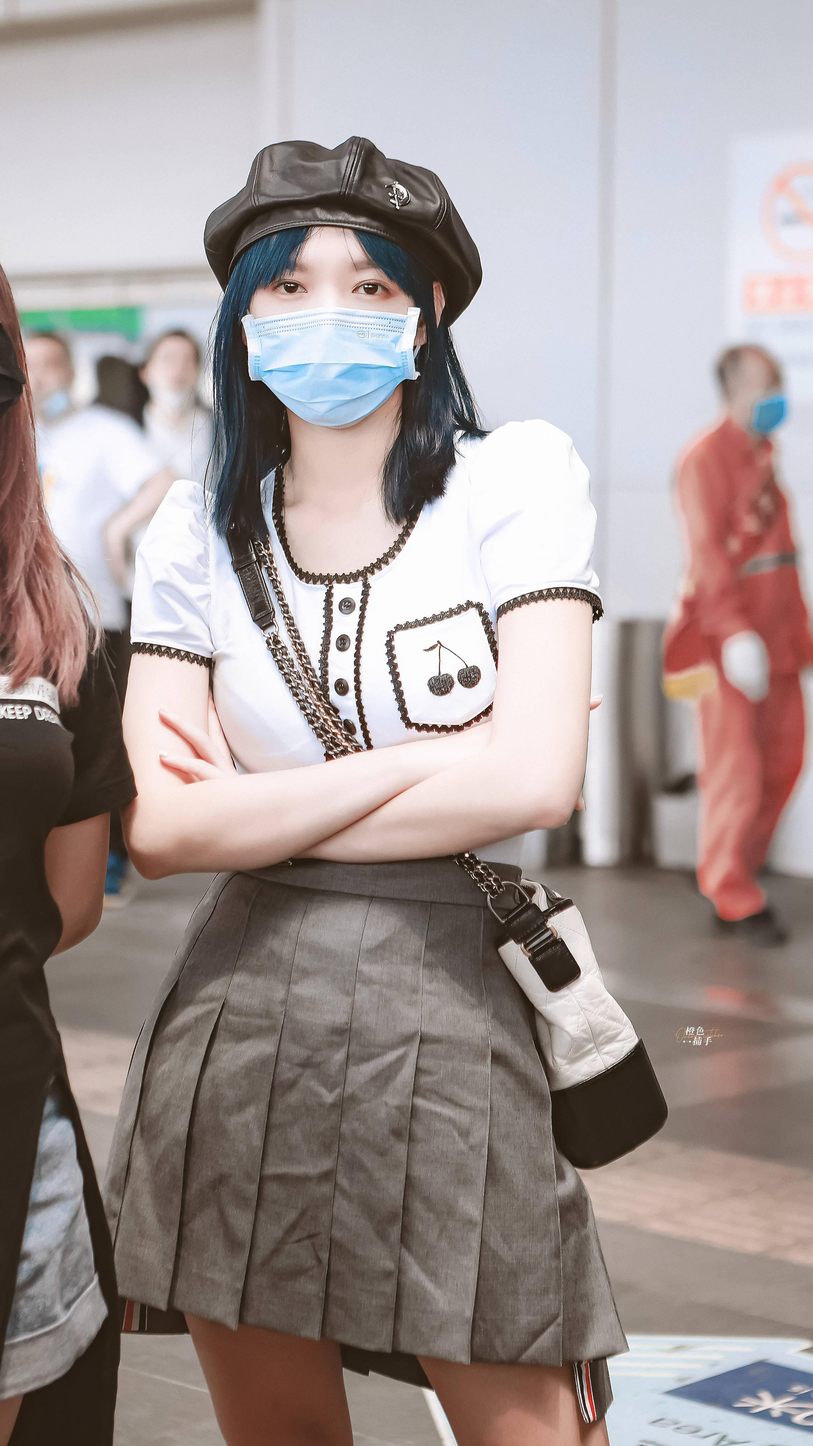OK: (249, 236, 423, 432), (738, 363, 788, 435)
WRONG: (21, 348, 73, 413), (150, 346, 198, 406)
